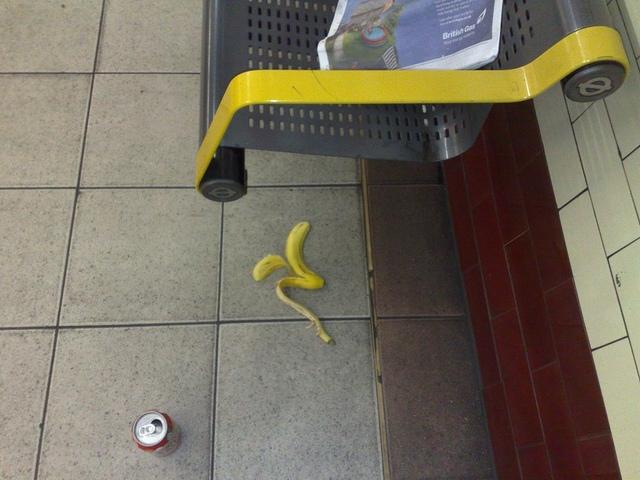banana: (252, 222, 336, 346)
